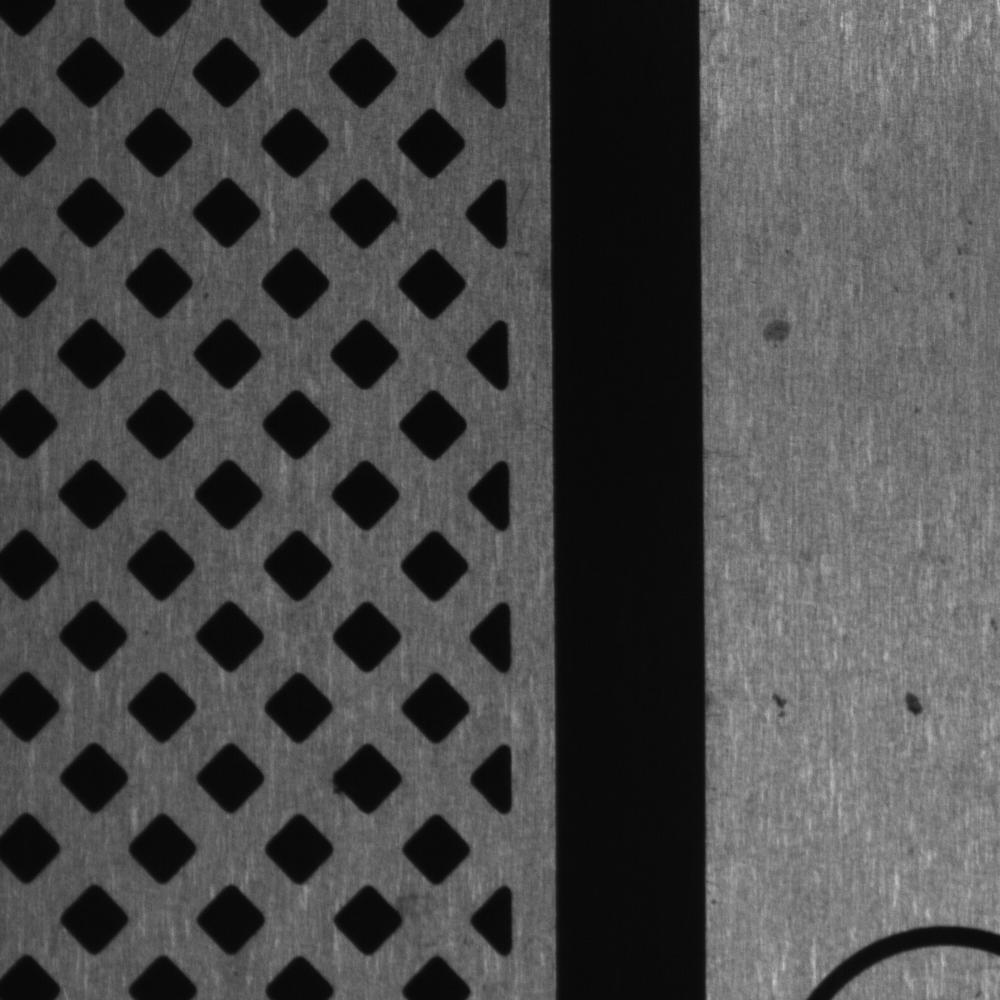Discolor: (757, 308, 798, 353)
Etching: (759, 683, 804, 725), (893, 679, 934, 723)
Scar: (158, 9, 192, 107)
